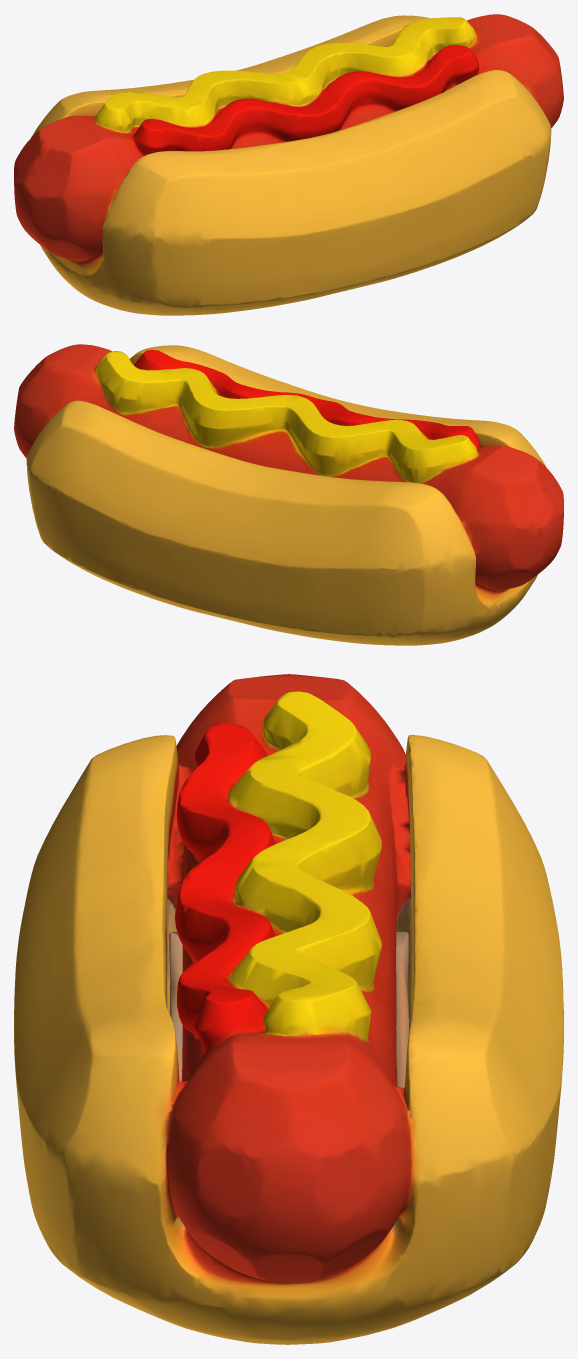
Rendered from hotdog.glb.
3 renders of one model, top to bottom at view 1: azimuth 30°, elevation 25°; view 2: azimuth 150°, elevation 25°; view 3: azimuth 270°, elevation 25°, orthographic. The views are drawn at different scales.
Visible parts, largest first — view 1: tripo_node_a855d84b-24fc-4049-9b6b-f9ac8b113762; view 2: tripo_node_a855d84b-24fc-4049-9b6b-f9ac8b113762; view 3: tripo_node_a855d84b-24fc-4049-9b6b-f9ac8b113762.
Part boxes in pixels (x1,y1,x2,y2): tripo_node_a855d84b-24fc-4049-9b6b-f9ac8b113762: (14, 14, 563, 315); tripo_node_a855d84b-24fc-4049-9b6b-f9ac8b113762: (14, 344, 563, 645); tripo_node_a855d84b-24fc-4049-9b6b-f9ac8b113762: (14, 674, 563, 1344).
Size of the model in its own units: 1 by 0.3727 by 0.5044.
Materials: 1 (1 with a texture image).
